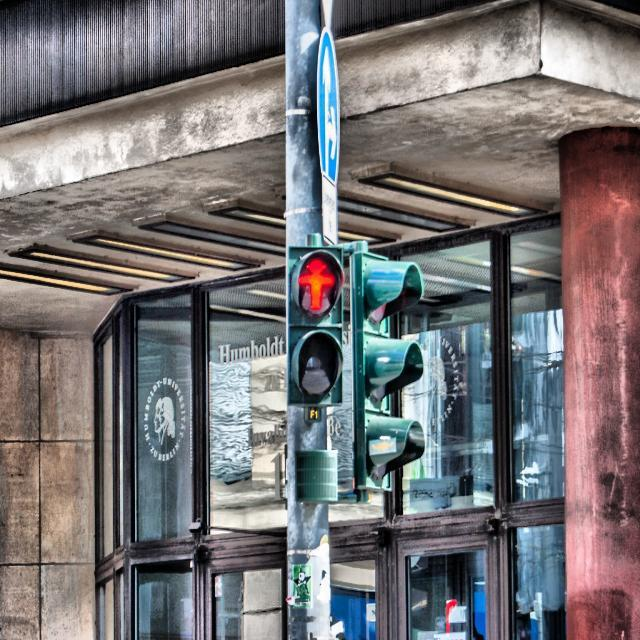red_light: (296, 256, 337, 316)
